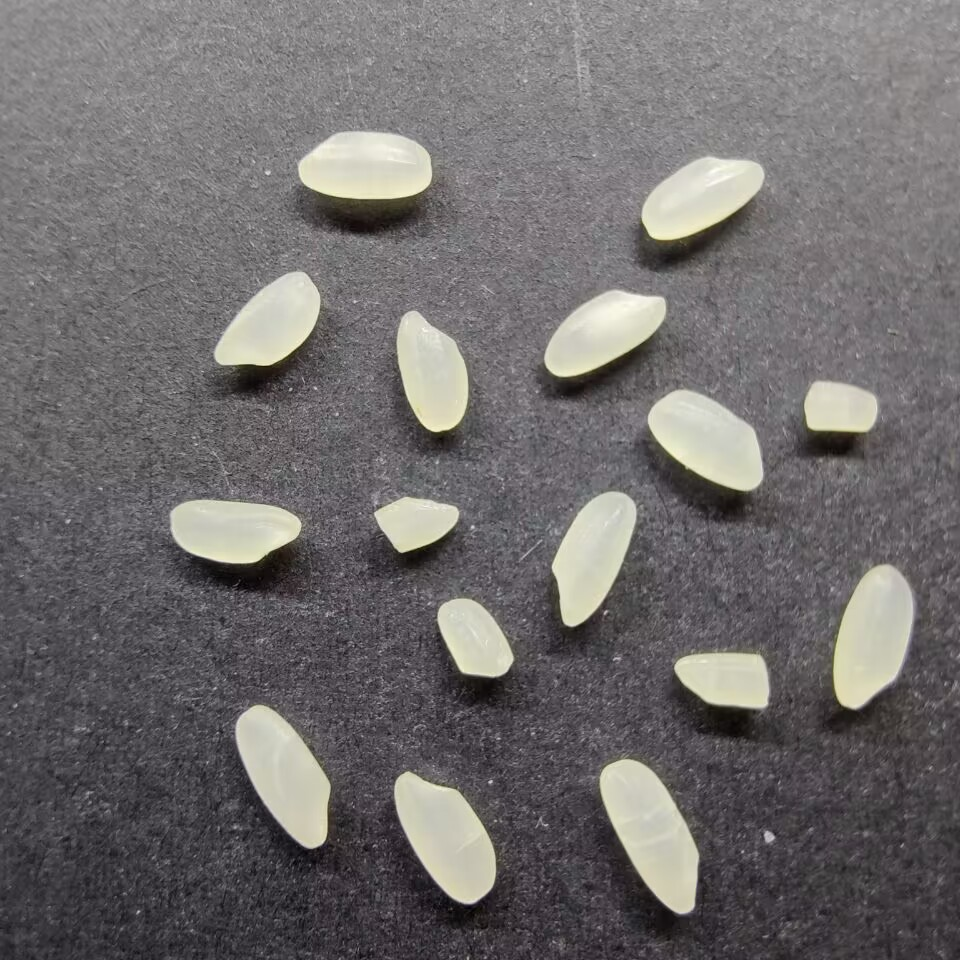broken: (437, 597, 515, 679), (671, 651, 771, 710), (370, 496, 461, 556), (803, 379, 880, 435)
rice: (598, 757, 702, 918), (231, 703, 334, 851), (392, 768, 498, 906), (644, 388, 766, 492), (550, 487, 638, 629), (832, 563, 914, 711), (541, 287, 671, 378), (639, 156, 766, 241), (211, 270, 322, 367), (295, 129, 433, 201), (395, 307, 471, 434), (167, 497, 302, 566)
